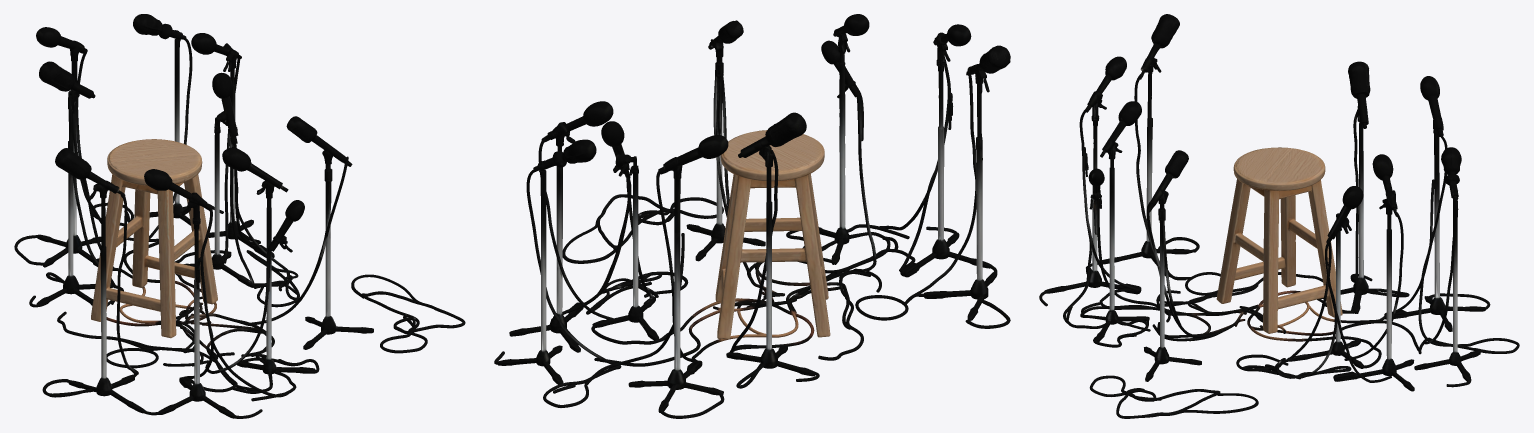
The model's file is mic_circle.glb.
3 renders of one model, left to right at view 1: azimuth 30°, elevation 25°; view 2: azimuth 150°, elevation 25°; view 3: azimuth 270°, elevation 25°, orthographic. The views are drawn at different scales.
Visible parts, largest first — view 1: tripo_node_0614b13a-c5c3-466d-9c4a-afa2eefdf3f0; view 2: tripo_node_0614b13a-c5c3-466d-9c4a-afa2eefdf3f0; view 3: tripo_node_0614b13a-c5c3-466d-9c4a-afa2eefdf3f0.
Part boxes in pixels (left/top/right/bottom): tripo_node_0614b13a-c5c3-466d-9c4a-afa2eefdf3f0: left=14, top=14, right=465, bottom=418; tripo_node_0614b13a-c5c3-466d-9c4a-afa2eefdf3f0: left=494, top=14, right=1010, bottom=418; tripo_node_0614b13a-c5c3-466d-9c4a-afa2eefdf3f0: left=1039, top=14, right=1519, bottom=418.
Bounding box in the file's own units: 1.23 × 0.75 × 1.4.
Materials: 1 (1 with a texture image).
